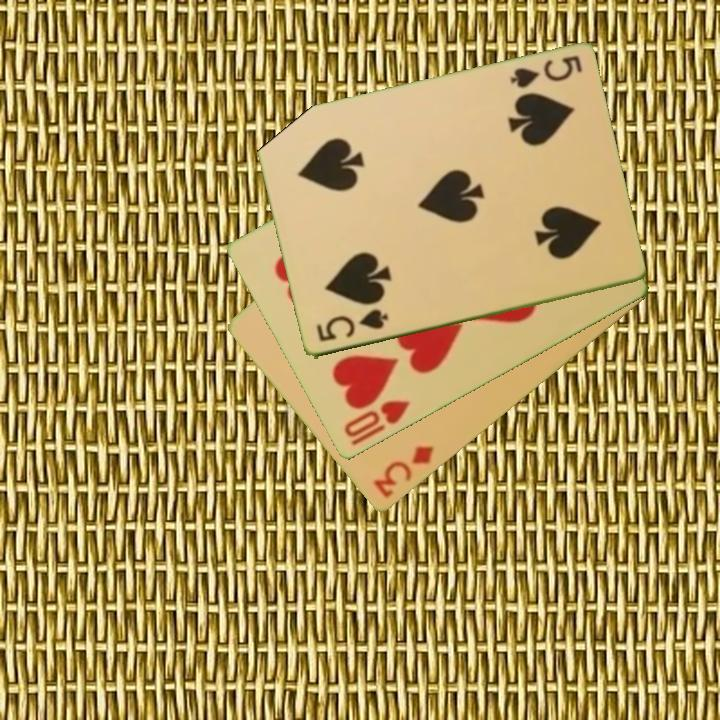10h: (340, 397, 413, 450)
3d: (370, 442, 437, 502)
5s: (506, 52, 585, 92), (312, 306, 391, 345)
